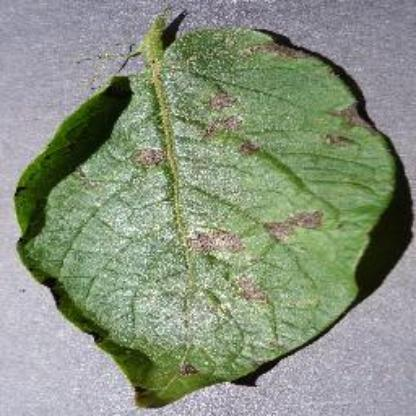Early-Blight: (12, 7, 416, 408)
